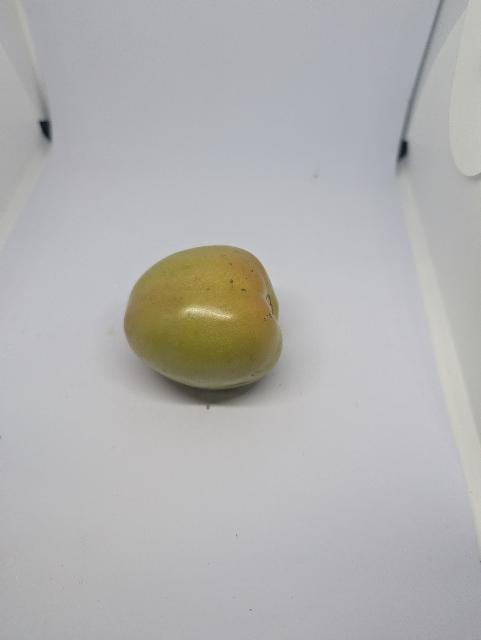breaker: (122, 244, 284, 394)
